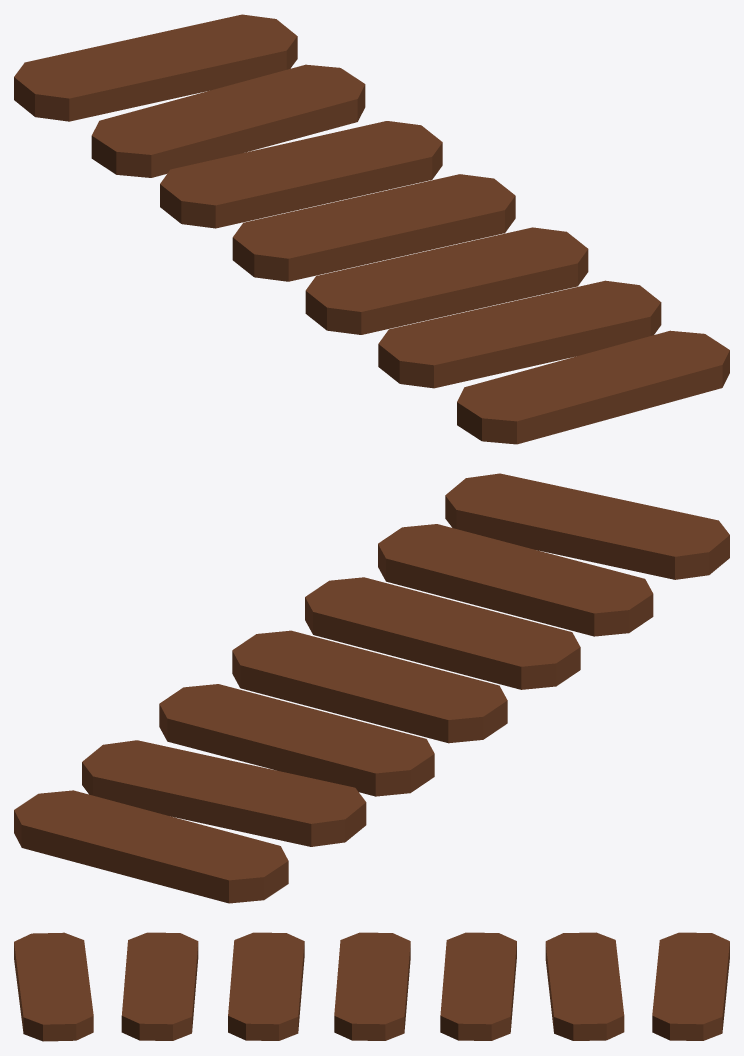
The model's file is plank-4.fbx.
3 views of the same model, one above another, from view 1: azimuth 30°, elevation 25°; view 2: azimuth 150°, elevation 25°; view 3: azimuth 270°, elevation 25° (orthographic). The views are drawn at different scales.
Parts seen in each view (by area): view 1: plank-4; view 2: plank-4; view 3: plank-4.
Part boxes in pixels (x1,y1,x2,y2): plank-4: (14,14,729,444); plank-4: (14,473,729,903); plank-4: (14,932,729,1041).
Size of the model in its own units: 82.14 by 7 by 270.
